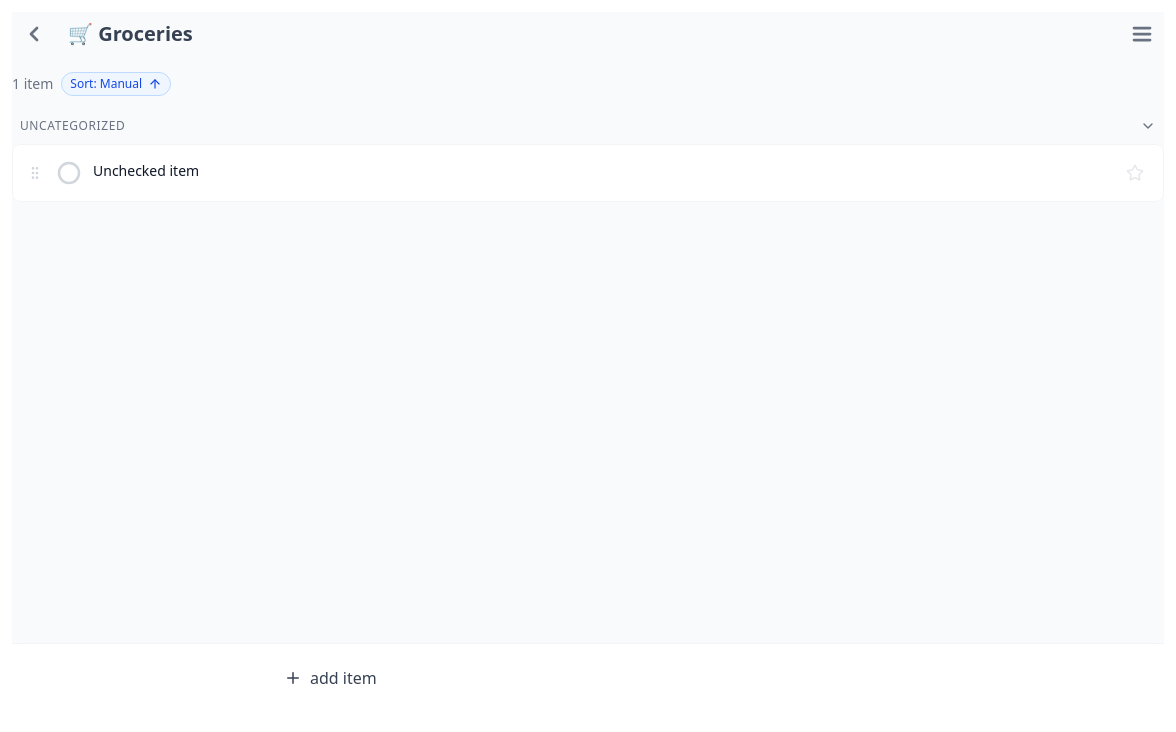
Scenario: ListPage menu presentation › displays the delete checked action disabled when the list has no checked items
Click the button named "List options": (1142, 34) [1120,12,1164,56]
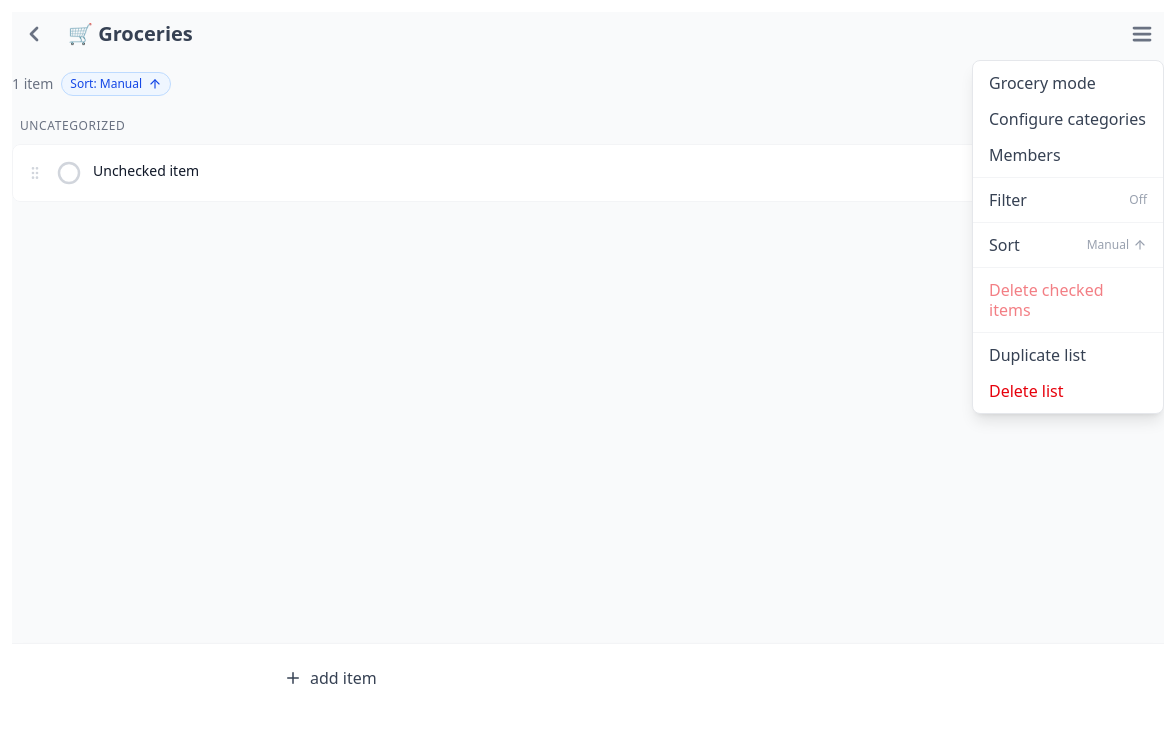
Now the button "Delete checked items" is disabled, box [973,272,1163,328]
